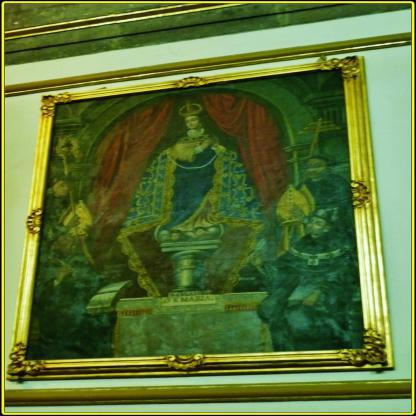Picture-frame: (9, 54, 398, 381)
